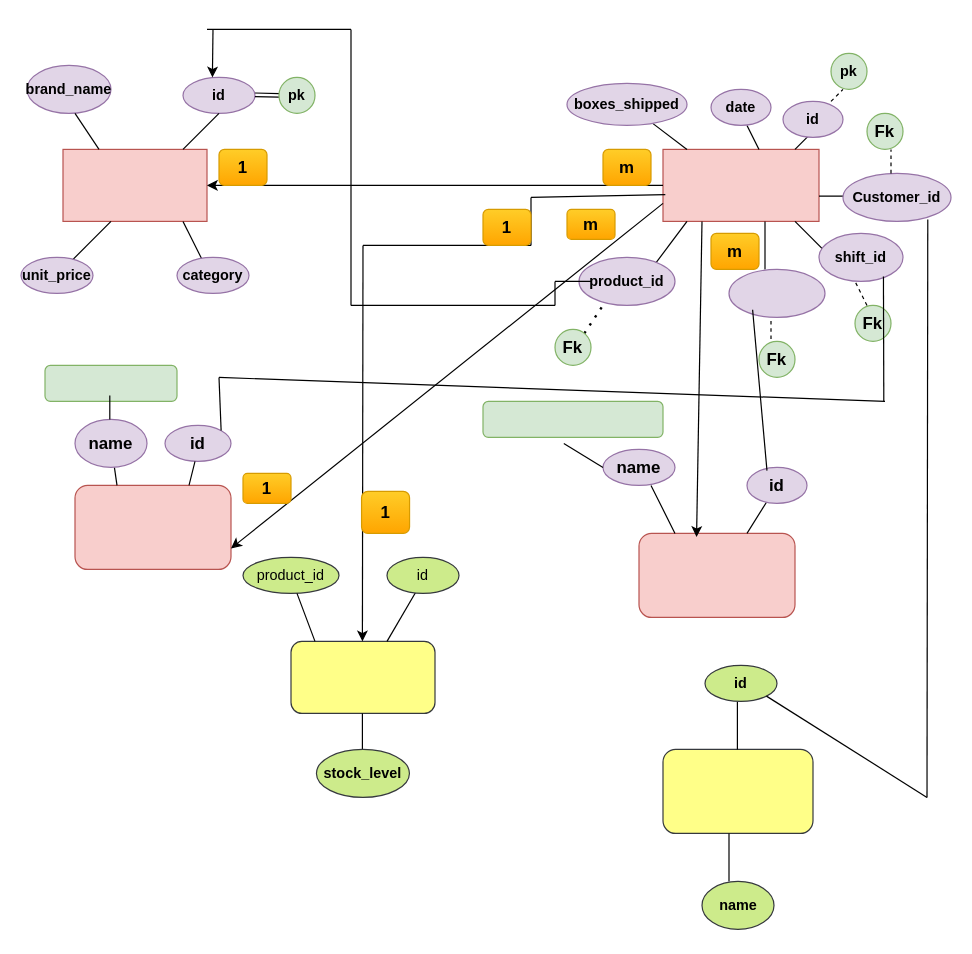
This 972x954 diagram has some shape labels left out. The shapes that lost their labels are listed below. From the top down, each one's box as (x1, y1, x2, y2) in pixels, then its label:
(62, 148, 207, 221): Product
(662, 148, 819, 221): Shipment
(728, 268, 825, 317): season_id
(44, 364, 177, 401): Morning / Night
(482, 400, 663, 437): summer, winter, spring
(74, 484, 231, 569): Shift
(638, 532, 795, 617): Season
(290, 640, 435, 713): Inventory
(662, 748, 813, 833): Customer
